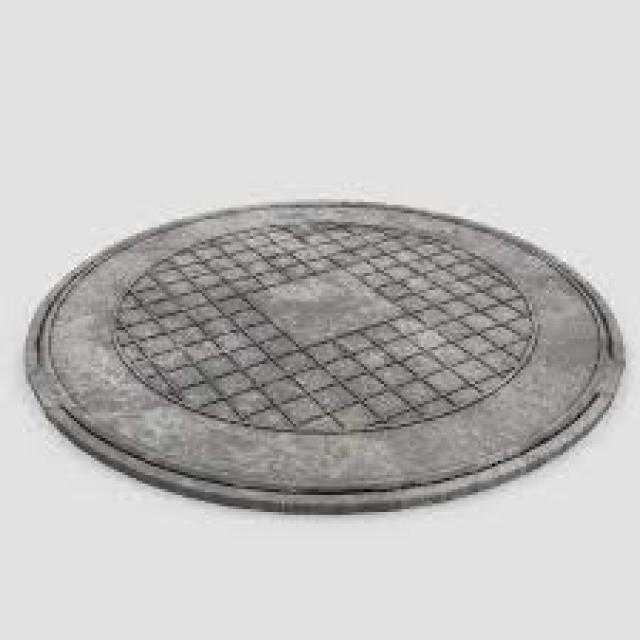manhole: (26, 202, 624, 512)
